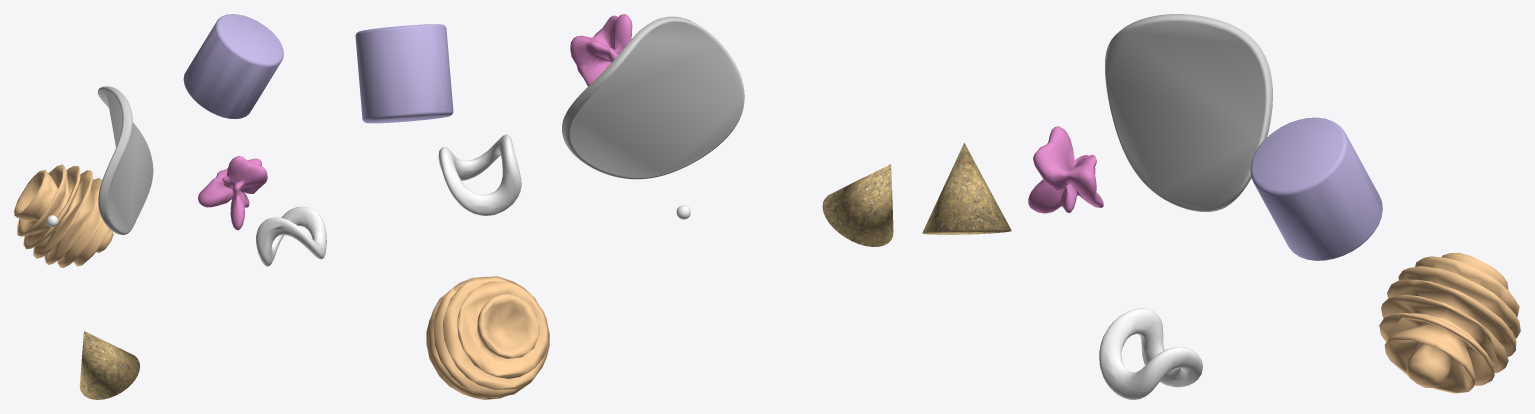
The picture shows the model from 3 angles, left to right: view 1: azimuth 30°, elevation 25°; view 2: azimuth 150°, elevation 25°; view 3: azimuth 270°, elevation 25°; orthographic projection. The views are drawn at different scales.
Parts seen in each view (by area): view 1: Icosphere.001, Cylinder, Cylinder.001, Cone, Icosphere, Torus; view 2: Cylinder.001, Icosphere.001, Cylinder, Cone, Torus, Icosphere; view 3: Cylinder.001, Icosphere.001, Cylinder, Torus, Cone, Icosphere.
Boxes of the visible parts, <box> form: Icosphere.001: <box>14,164,113,267</box>; Cylinder: <box>183,14,283,118</box>; Cylinder.001: <box>97,86,153,234</box>; Cone: <box>79,331,139,399</box>; Icosphere: <box>198,156,267,230</box>; Torus: <box>256,206,326,266</box>; Cylinder.001: <box>562,16,744,179</box>; Icosphere.001: <box>426,276,549,399</box>; Cylinder: <box>355,24,453,123</box>; Cone: <box>822,164,893,246</box>; Torus: <box>438,134,521,215</box>; Icosphere: <box>570,14,632,86</box>; Cylinder.001: <box>1105,14,1272,211</box>; Icosphere.001: <box>1379,252,1520,393</box>; Cylinder: <box>1250,117,1382,260</box>; Torus: <box>1099,308,1202,399</box>; Cone: <box>922,143,1011,234</box>; Icosphere: <box>1028,126,1103,213</box>.
Size of the model in its own units: 6.37 by 4.79 by 7.57.
6 materials, 1 textured.
